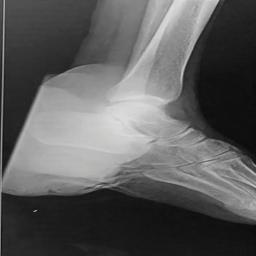cancer: (3, 67, 145, 200)
